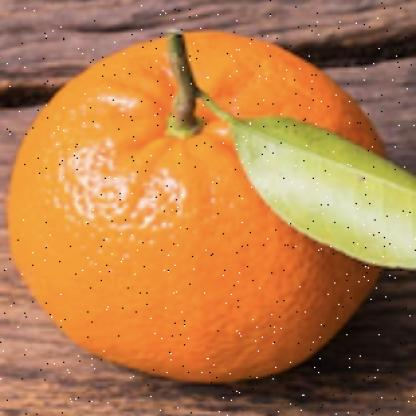fresh: (10, 32, 400, 387)
